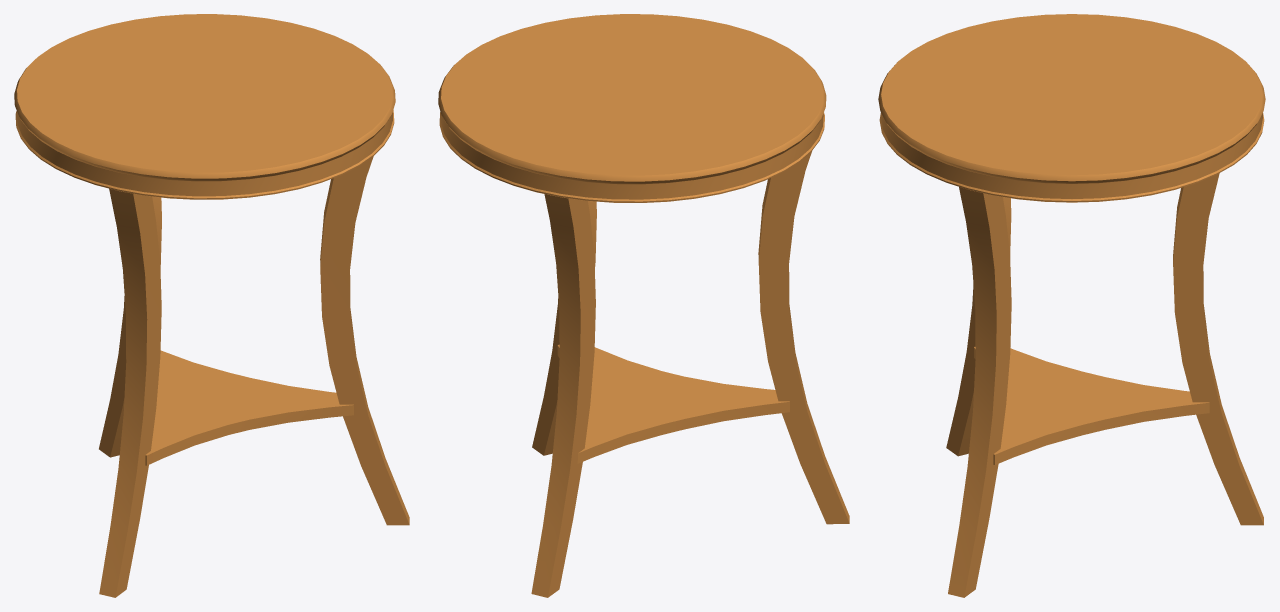
The model's file is bistro_table.glb.
The picture shows the model from 3 angles, left to right: view 1: azimuth 30°, elevation 25°; view 2: azimuth 150°, elevation 25°; view 3: azimuth 270°, elevation 25°; orthographic projection.
Visible parts, largest first — view 1: body; view 2: body; view 3: body.
Boxes of the visible parts, x1,y1,x2,y2 form: body: (14,14,409,597); body: (438,14,849,597); body: (878,14,1265,597).
Size of the model in its own units: 0.6148 by 0.75 by 0.6148.
